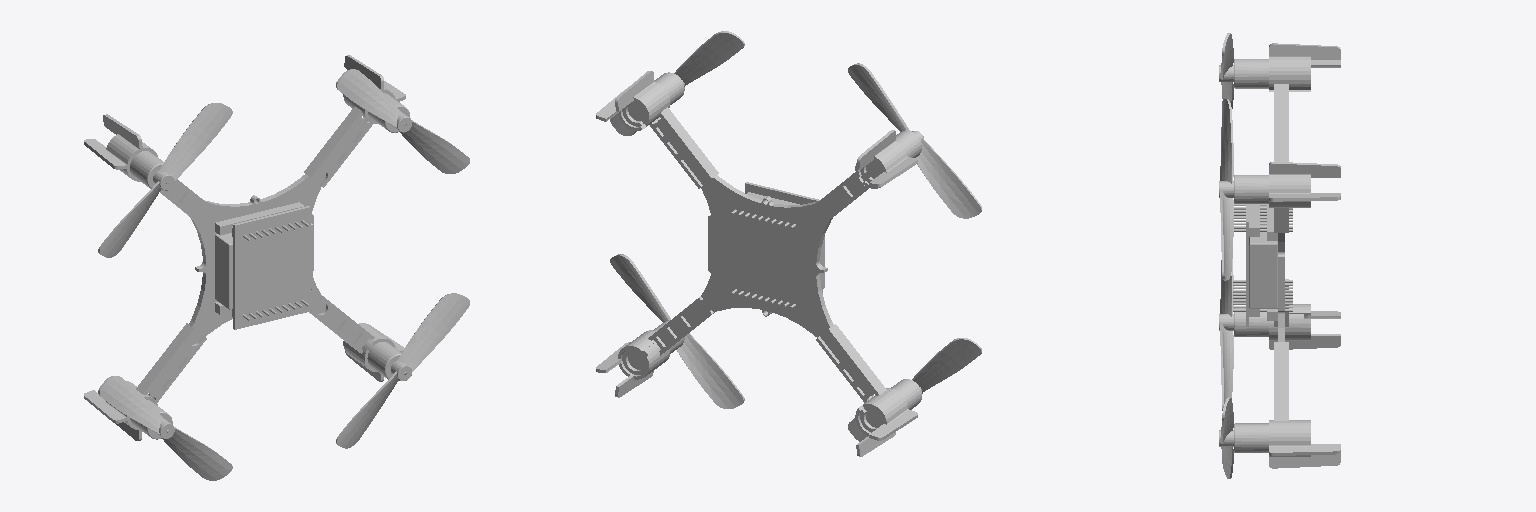
File: Crazyflie_v2.obj
3 renders of one model, left to right at view 1: azimuth 30°, elevation 25°; view 2: azimuth 150°, elevation 25°; view 3: azimuth 270°, elevation 25°, orthographic.
Parts seen in each view (by area): view 1: Body1:3, Body1, Body1:16, Body1:15, Body1:13, Body1:14, Body1:5, Body1:8, Body1:6, Body1:7, Body1:2, Body1:11 (+1 smaller); view 2: Body1, Body1:5, Body1:8, Body1:16, Body1:15, Body1:7, Body1:6, Body1:14, Body1:13, Body1:12, Body1:10, Body1:9 (+1 smaller); view 3: Body1:7, Body1:6, Body1:8, Body1:14, Body1:2, Body1:5, Body1:13, Body1, Body1:9, Body1:11, Body1:12, Body1:15 (+4 smaller).
Boxes of the visible parts, box(x1,y1,x2,y2) form: Body1:3: box(233, 206, 310, 329); Body1: box(155, 126, 360, 388); Body1:16: box(98, 103, 232, 257); Body1:15: box(336, 293, 469, 448); Body1:13: box(98, 376, 232, 480); Body1:14: box(336, 69, 469, 173); Body1:5: box(84, 323, 206, 440); Body1:8: box(304, 55, 405, 187); Body1:6: box(84, 114, 206, 218); Body1:7: box(309, 296, 404, 381); Body1:2: box(215, 223, 312, 309); Body1:11: box(364, 341, 405, 380); Body1: box(658, 122, 870, 394); Body1:5: box(816, 324, 917, 456); Body1:8: box(596, 71, 718, 188); Body1:16: box(848, 63, 981, 218); Body1:15: box(610, 254, 744, 408); Body1:7: box(596, 296, 713, 397); Body1:6: box(816, 130, 917, 220); Body1:14: box(610, 31, 744, 135); Body1:13: box(848, 338, 981, 441); Body1:12: box(628, 72, 684, 123); Body1:10: box(864, 379, 921, 427); Body1:9: box(864, 130, 921, 178); Body1:7: box(1269, 342, 1340, 468); Body1:6: box(1269, 43, 1340, 161); Body1:8: box(1269, 162, 1340, 232); Body1:14: box(1219, 99, 1233, 280); Body1:2: box(1249, 206, 1277, 308); Body1:5: box(1269, 279, 1340, 349); Body1:13: box(1219, 259, 1233, 410); Body1: box(1267, 204, 1284, 341); Body1:9: box(1234, 59, 1268, 88); Body1:11: box(1234, 423, 1268, 452); Body1:12: box(1234, 175, 1268, 203); Body1:15: box(1219, 397, 1233, 478).
Size of the model in its own units: 10.1 by 9.83 by 2.88.